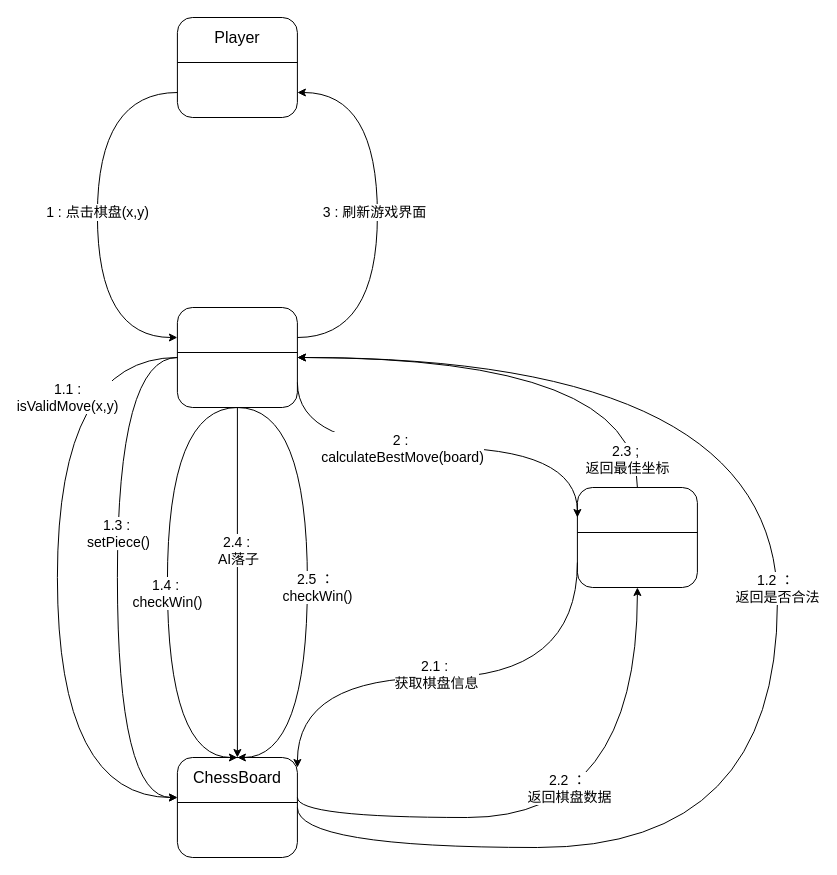
This 837x875 diagram has some shape labels left out. The centre of each missing label's shape, as x and y in pixels:
Game: point 236,357
GameAI: point 636,537
